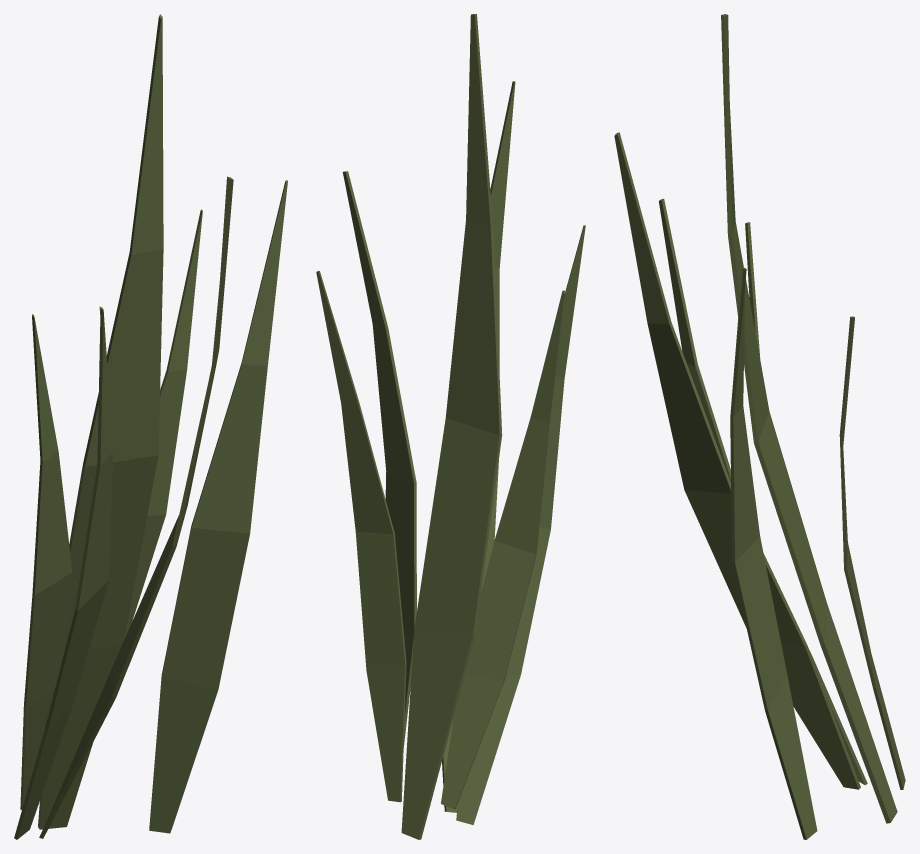
File: bush2.fbx
The picture shows the model from 3 angles, left to right: view 1: azimuth 30°, elevation 25°; view 2: azimuth 150°, elevation 25°; view 3: azimuth 270°, elevation 25°; orthographic projection. The views are drawn at different scales.
Parts seen in each view (by area): view 1: grass.004; view 2: grass.004; view 3: grass.004.
Boxes of the visible parts, x1,y1,x2,y2 form: grass.004: (14,14,287,839); grass.004: (316,14,585,839); grass.004: (614,14,905,839).
Size of the model in its own units: 53.06 by 174 by 56.43.
